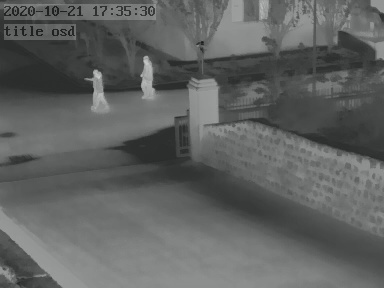person: (90, 68, 107, 112), (140, 55, 156, 100)
